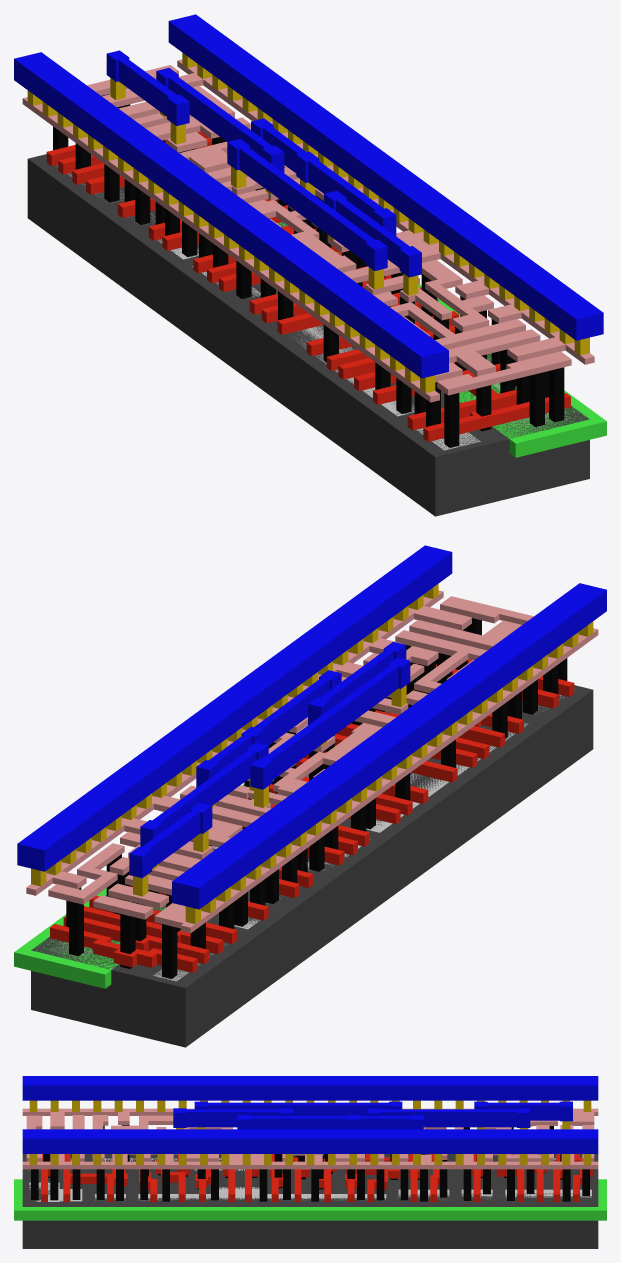
Rendered from sky130_fd_sc_hd__sdfstp_1.obj.
3 views of the same model, one above another, from view 1: azimuth 30°, elevation 25°; view 2: azimuth 150°, elevation 25°; view 3: azimuth 270°, elevation 25° (orthographic). The views are drawn at different scales.
Parts seen in each view (by area): view 1: metal1, subs, li, licon, poly, mcon, nwell, diff; view 2: metal1, subs, li, poly, licon, mcon, nwell, diff; view 3: metal1, subs, li, nwell, poly, licon, mcon, tap.
Boxes of the visible parts, x1,y1,x2,y2 form: metal1: (14,14,603,378); subs: (27,154,589,516); li: (22,59,594,402); licon: (53,94,564,447); poly: (46,131,570,441); mcon: (27,52,589,392); nwell: (278,222,606,457); diff: (56,166,480,450); metal1: (17,545,606,909); subs: (31,685,593,1047); li: (26,590,598,933); poly: (50,659,574,972); licon: (66,618,567,978); mcon: (31,583,593,923); nwell: (14,711,385,988); diff: (153,695,563,981); metal1: (22,1076,598,1153); subs: (22,1154,598,1248); li: (22,1108,598,1169); nwell: (14,1179,606,1220); poly: (41,1154,593,1201); licon: (31,1125,590,1201); mcon: (29,1100,591,1164); tap: (29,1182,591,1201).
Bounding box in the file's own units: 3.2 × 2.74 × 12.8.
